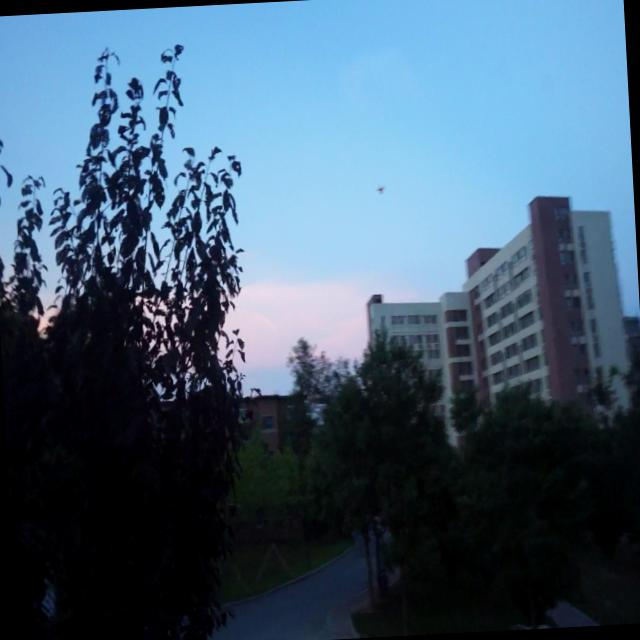drone: (376, 182, 387, 198)
